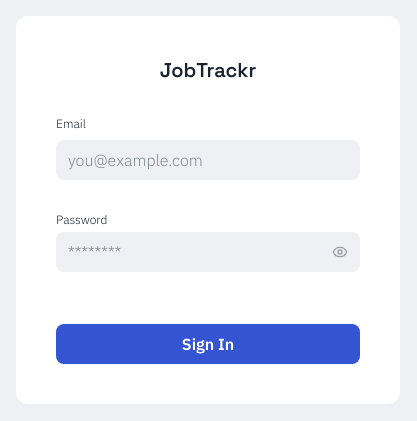
LoginForm component › should show validation error for malformed email
In the field labelled "Email": {"x": 208, "y": 160} [56,140,360,180], type "email"
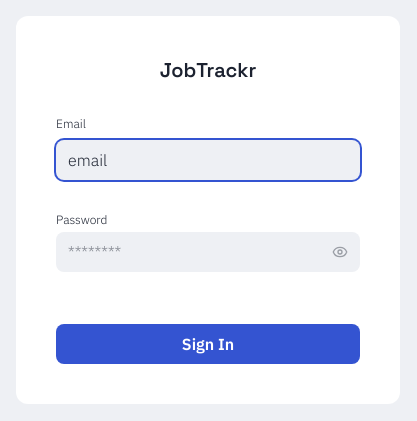
Click the button "Sign In": {"x": 208, "y": 344} [56,324,360,364]
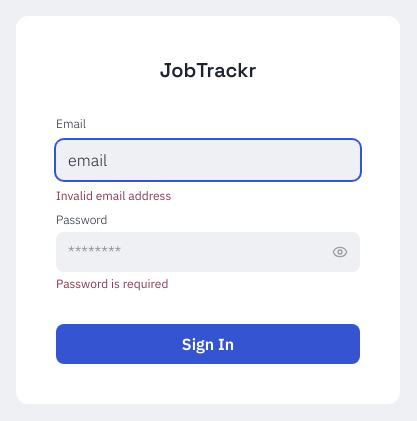
Now the text "Invalid email address" is shown, box [56,188,171,204]
